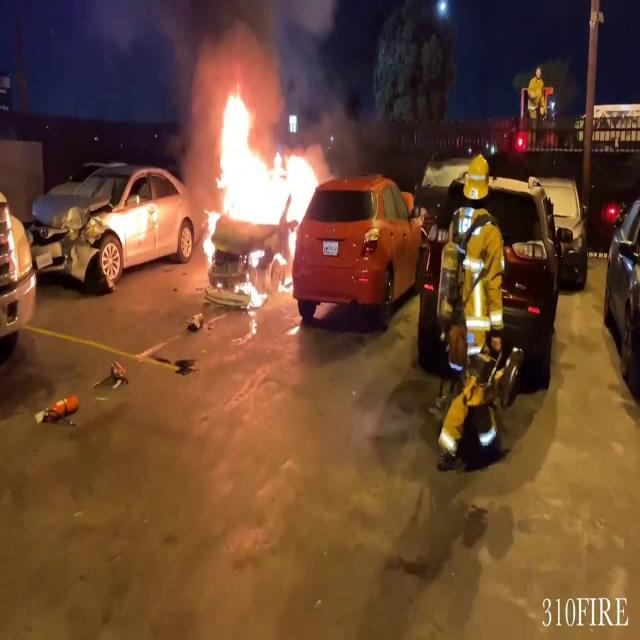Fire: (196, 82, 324, 260)
Smoke: (166, 5, 337, 124)
